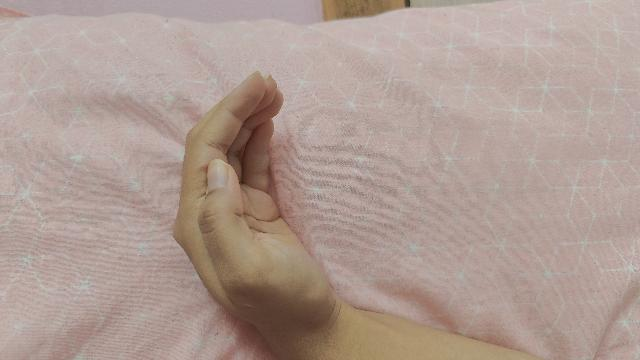sarpsheesh: (173, 73, 547, 360)
